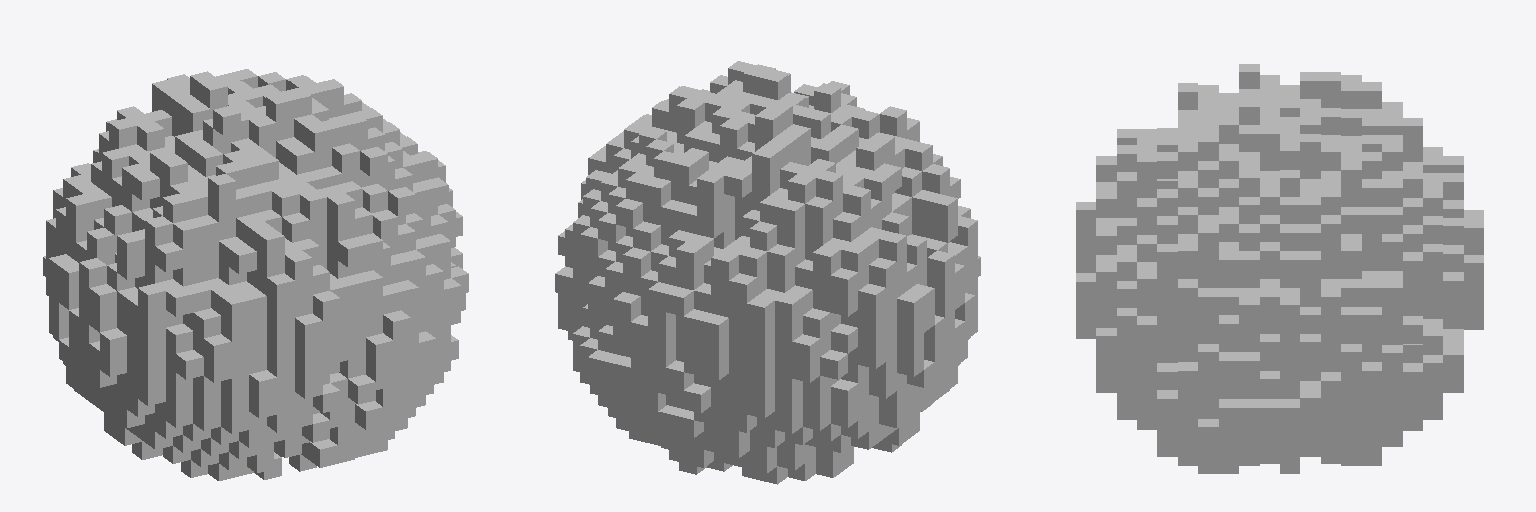
The model's file is paperBall 1.obj.
The picture shows the model from 3 angles: view 1: azimuth 30°, elevation 25°; view 2: azimuth 150°, elevation 25°; view 3: azimuth 270°, elevation 25°; orthographic projection.
Visible parts, largest first — view 1: object 1; view 2: object 1; view 3: object 1.
Boxes of the visible parts, x1,y1,x2,y2 form: object 1: [43, 69, 468, 480]; object 1: [555, 61, 980, 484]; object 1: [1076, 64, 1483, 473].
Bounding box in the file's own units: 2 × 1.8 × 2.